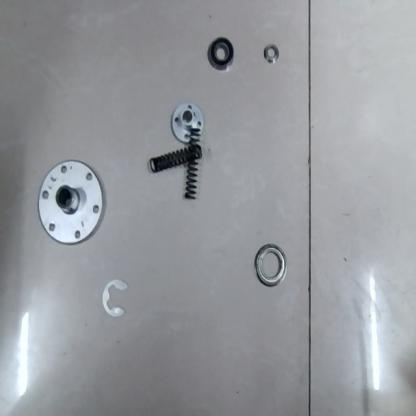FOD: (35, 158, 107, 248), (182, 125, 206, 204), (250, 242, 289, 288), (146, 146, 204, 175), (170, 97, 206, 143), (99, 276, 132, 319), (206, 34, 235, 71), (262, 42, 281, 64)
